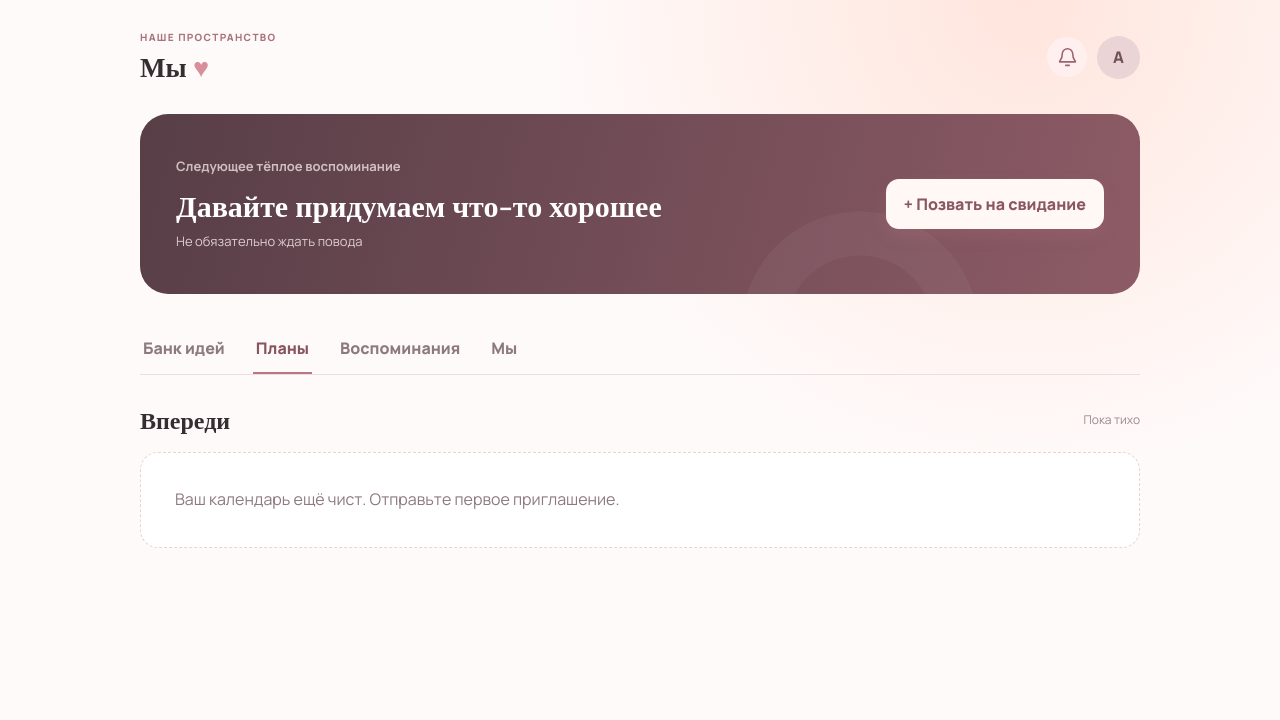
Test: date details › offers deletion only for the current user photo
This screenshot has width=1280, height=720.
Click the button "Воспоминания" at {"x": 400, "y": 349}, box [337,324,463,374]
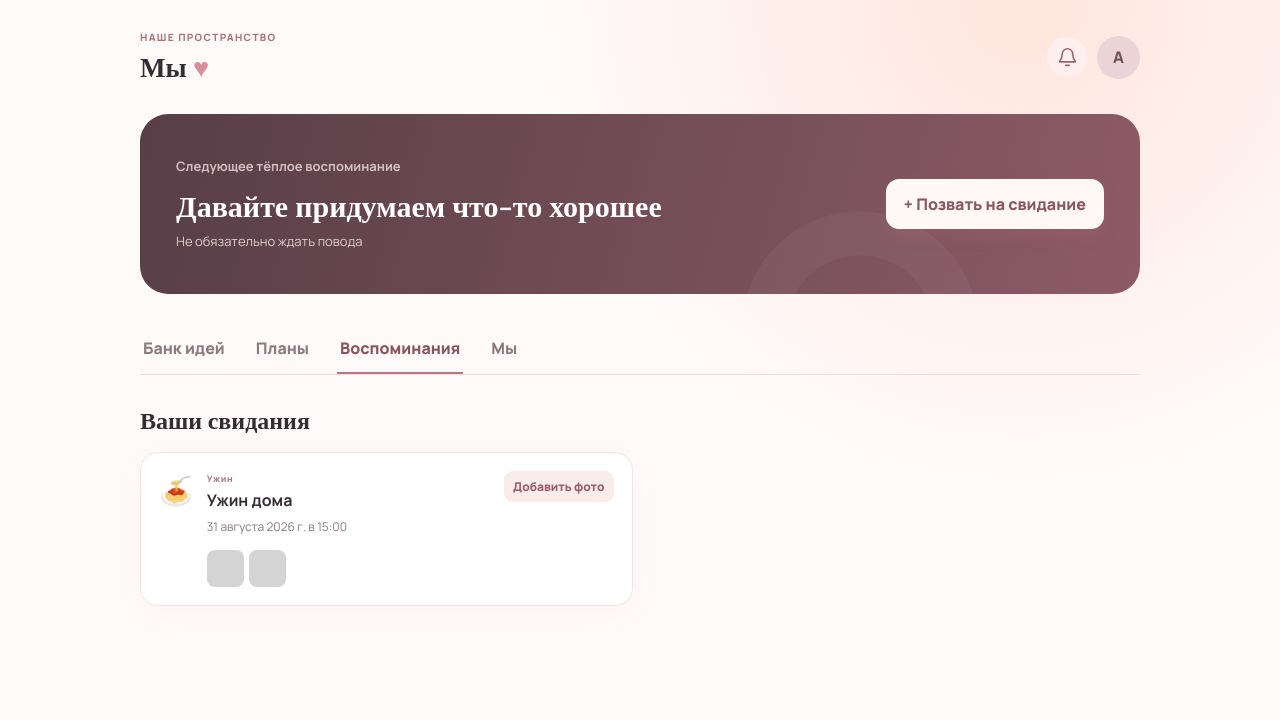
Click the button with aria-label "Открыть детали: Ужин дома" at {"x": 250, "y": 500}, box [207,471,490,542]
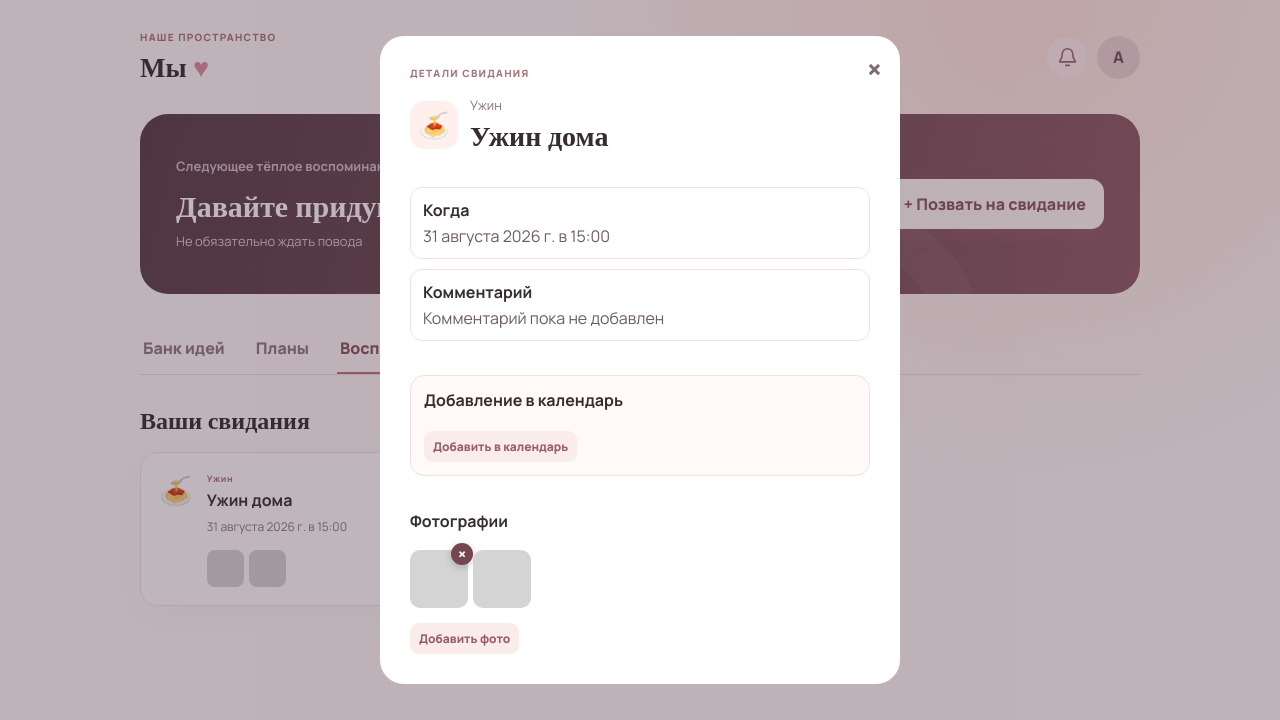
Click the button named "Удалить фото mine.jpg" at {"x": 462, "y": 554}, box [451,543,473,565]
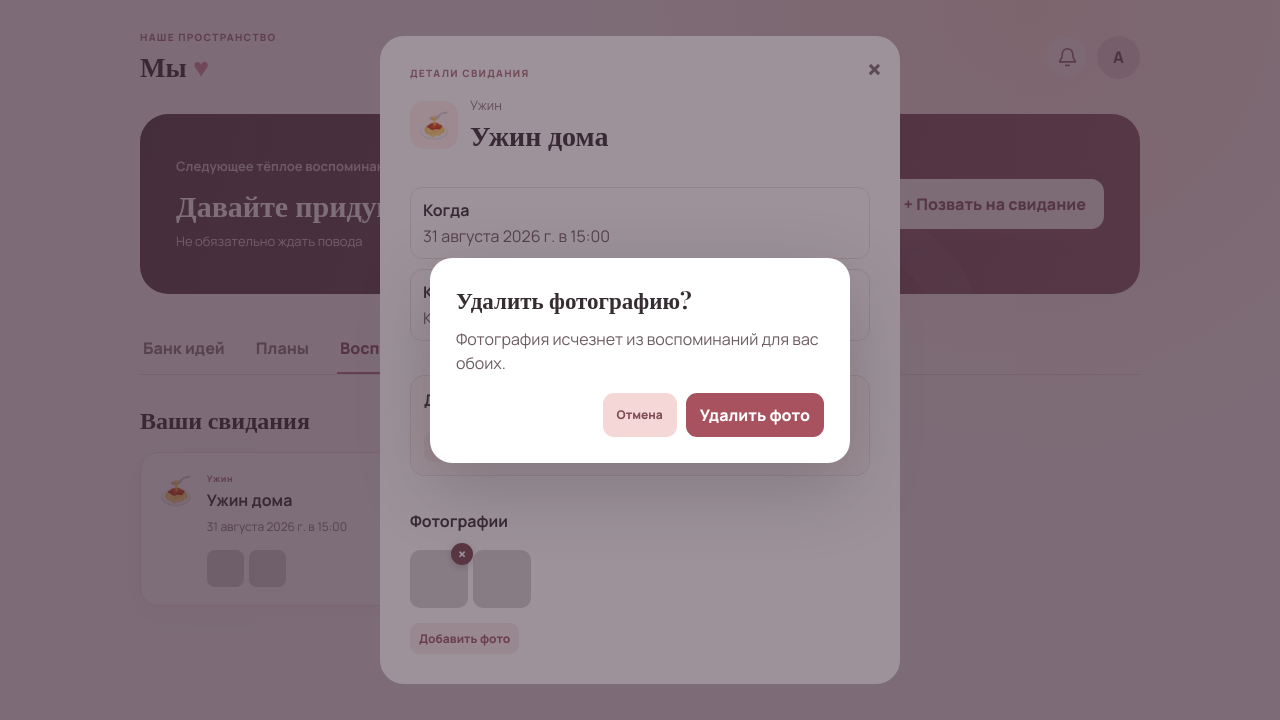
Click the button "Удалить фото" at {"x": 755, "y": 414}, box [686,392,824,436]
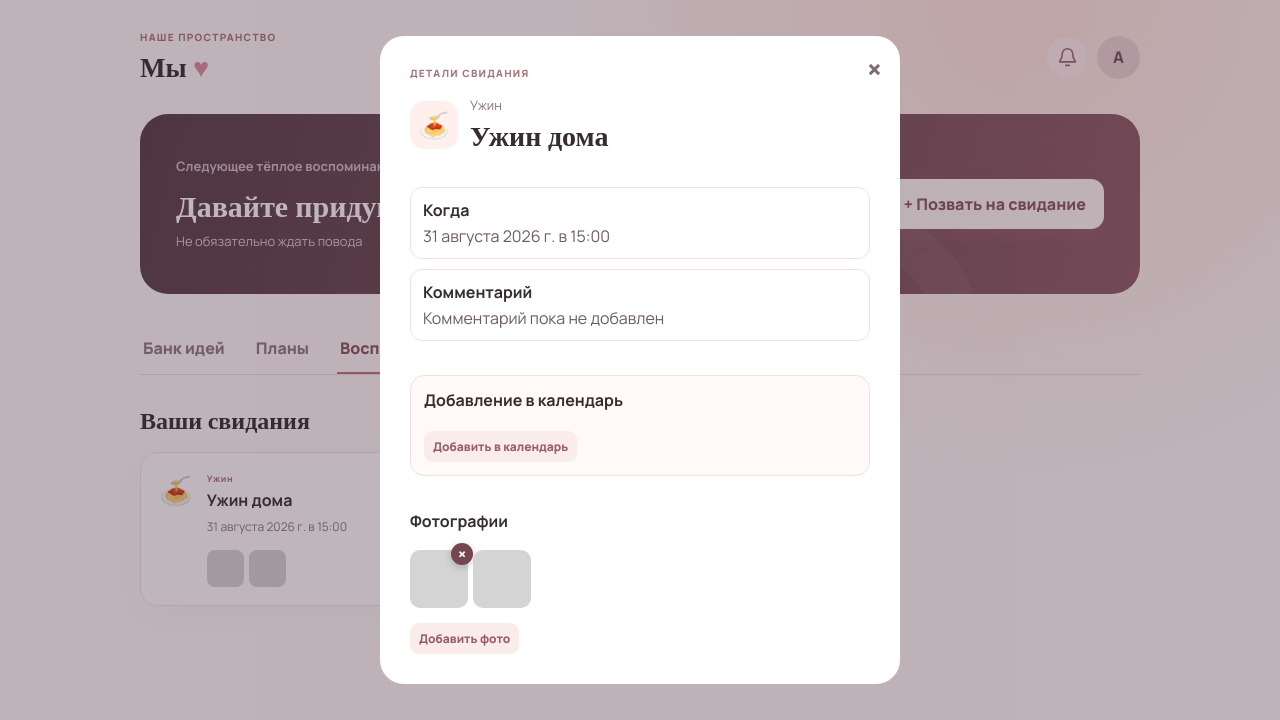
Check: the heading "Удалить фотографию?" is gone
